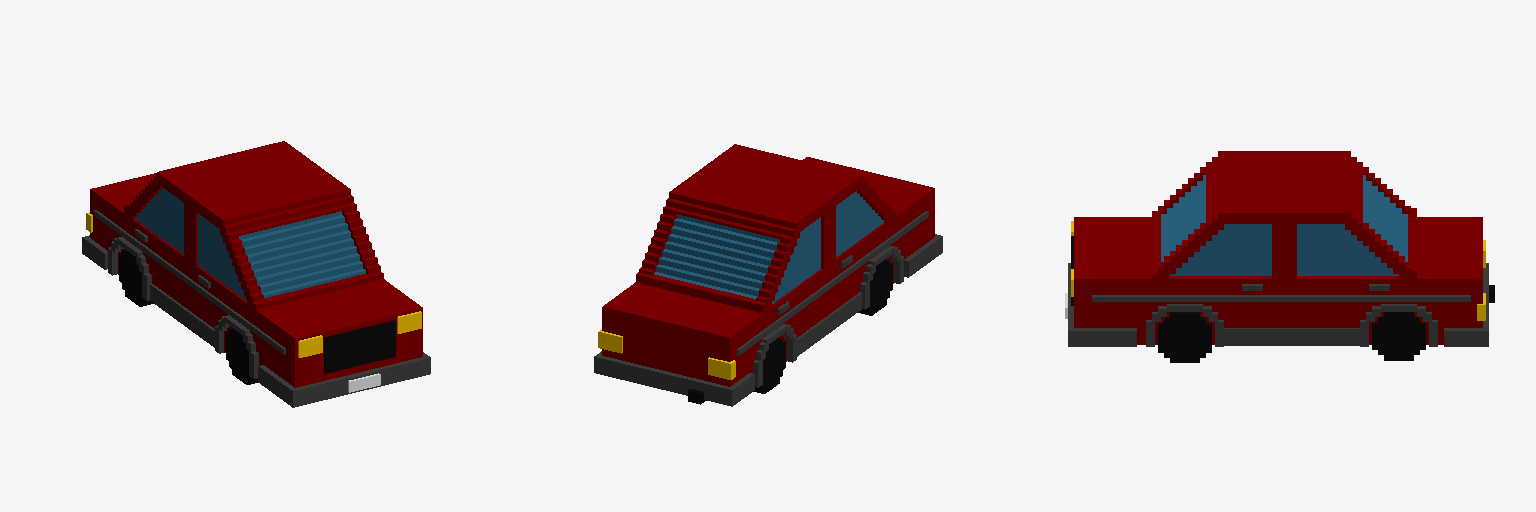
3 renders of one model, left to right at view 1: azimuth 30°, elevation 25°; view 2: azimuth 150°, elevation 25°; view 3: azimuth 270°, elevation 25°, orthographic.
Parts seen in each view (by area): view 1: object 1; view 2: object 1; view 3: object 1.
Boxes of the visible parts, <box> form: object 1: <box>82,141,430,407</box>; object 1: <box>594,144,942,406</box>; object 1: <box>1065,151,1494,362</box>.
Size of the model in its own units: 5.3 by 5.4 by 14.3.
Materials: 1 (1 with a texture image).